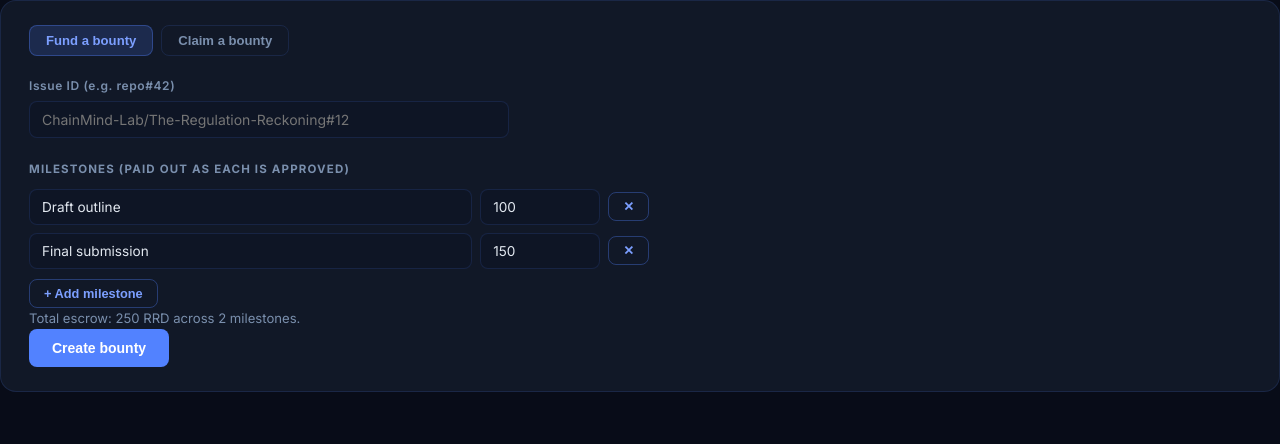
BountyForm › surfaces build failures
The width and height of the screenshot is (1280, 444).
Type "repo#42" into the field with test id "create-issue" at point(269, 120), box [29, 101, 509, 138]
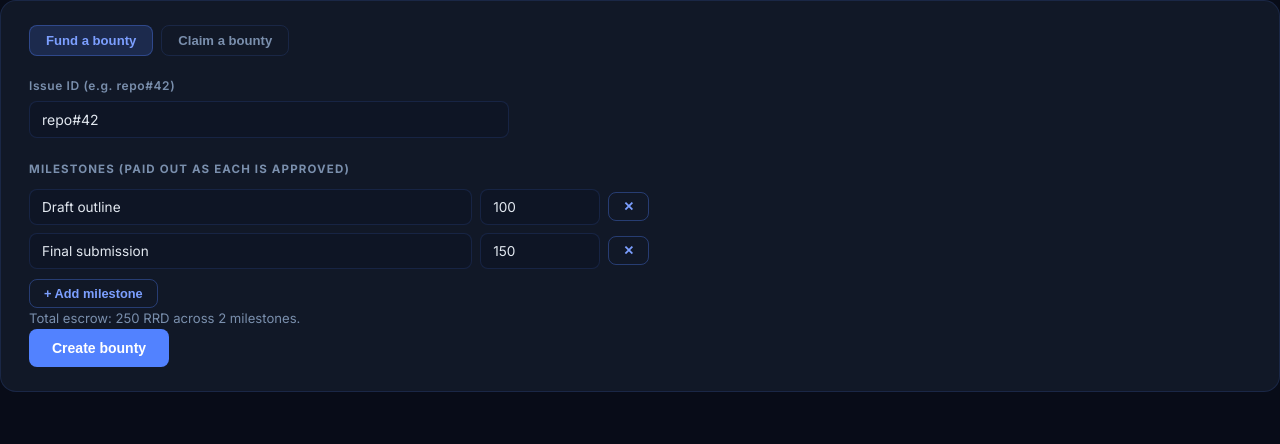
Click the button "Create bounty" at point(99, 348), box [29, 329, 169, 367]
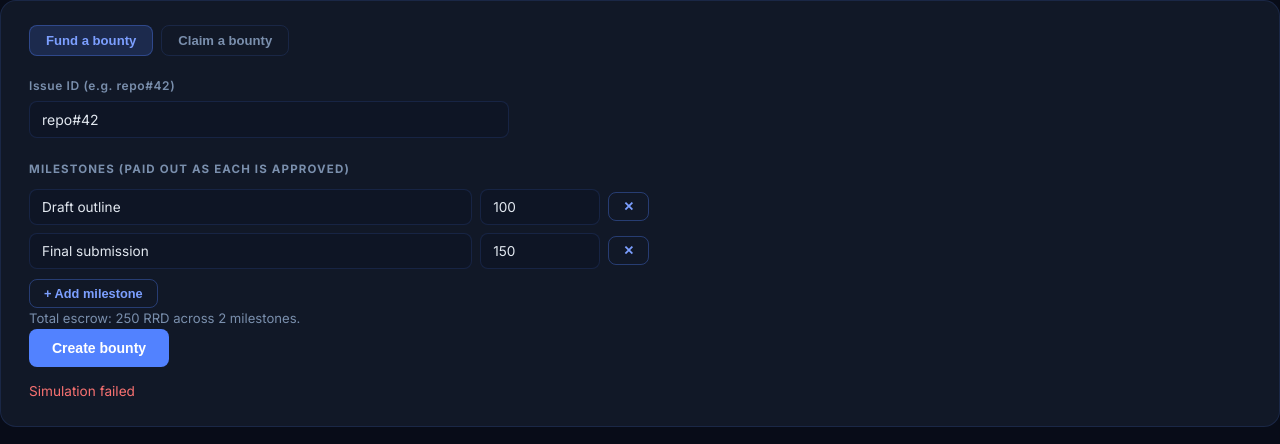
expect the text with test id "form-error" reads "Simulation failed": met, box [29, 383, 135, 399]
